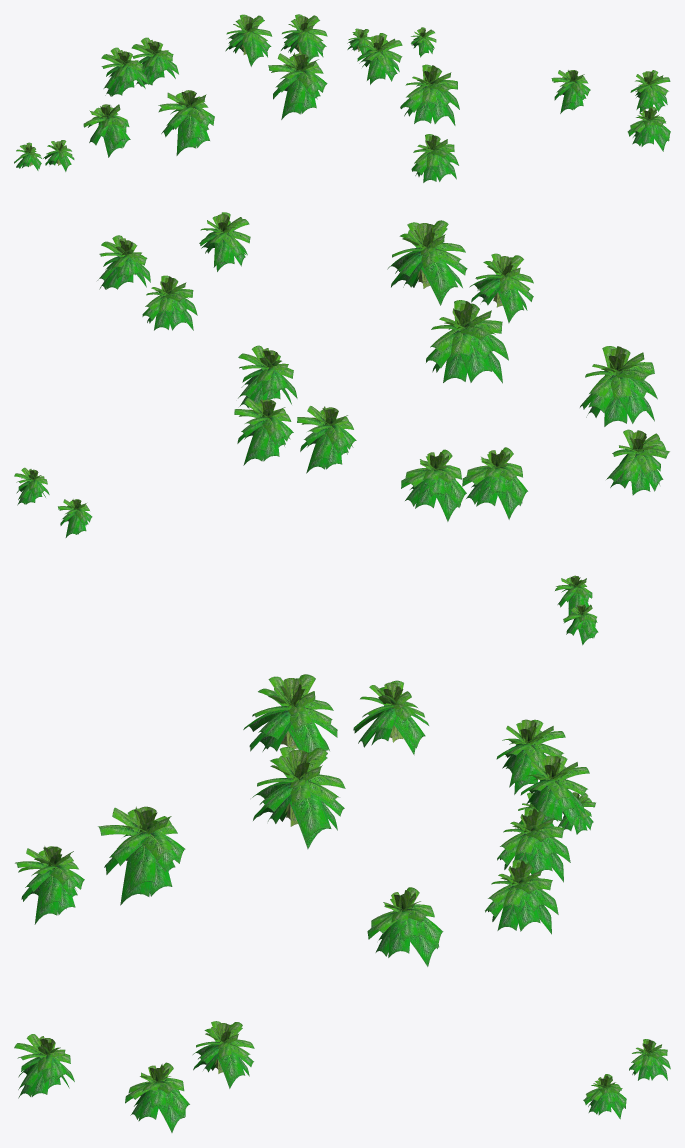
The model's file is coroane.obj.
3 renders of one model, top to bottom at view 1: azimuth 30°, elevation 25°; view 2: azimuth 150°, elevation 25°; view 3: azimuth 270°, elevation 25°, orthographic. The views are drawn at different scales.
Parts seen in each view (by area): view 1: palm_leaves; view 2: palm_leaves; view 3: palm_leaves.
Boxes of the visible parts, bbox=[...] form: palm_leaves: bbox=[14, 14, 670, 182]; palm_leaves: bbox=[14, 212, 669, 645]; palm_leaves: bbox=[14, 674, 670, 1132].
Bounding box in the file's own units: 302 × 80.91 × 222.
Materials: 1 (1 with a texture image).
